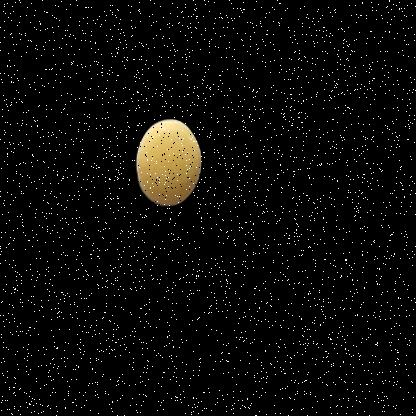rabeparzole20: (127, 99, 215, 228)
